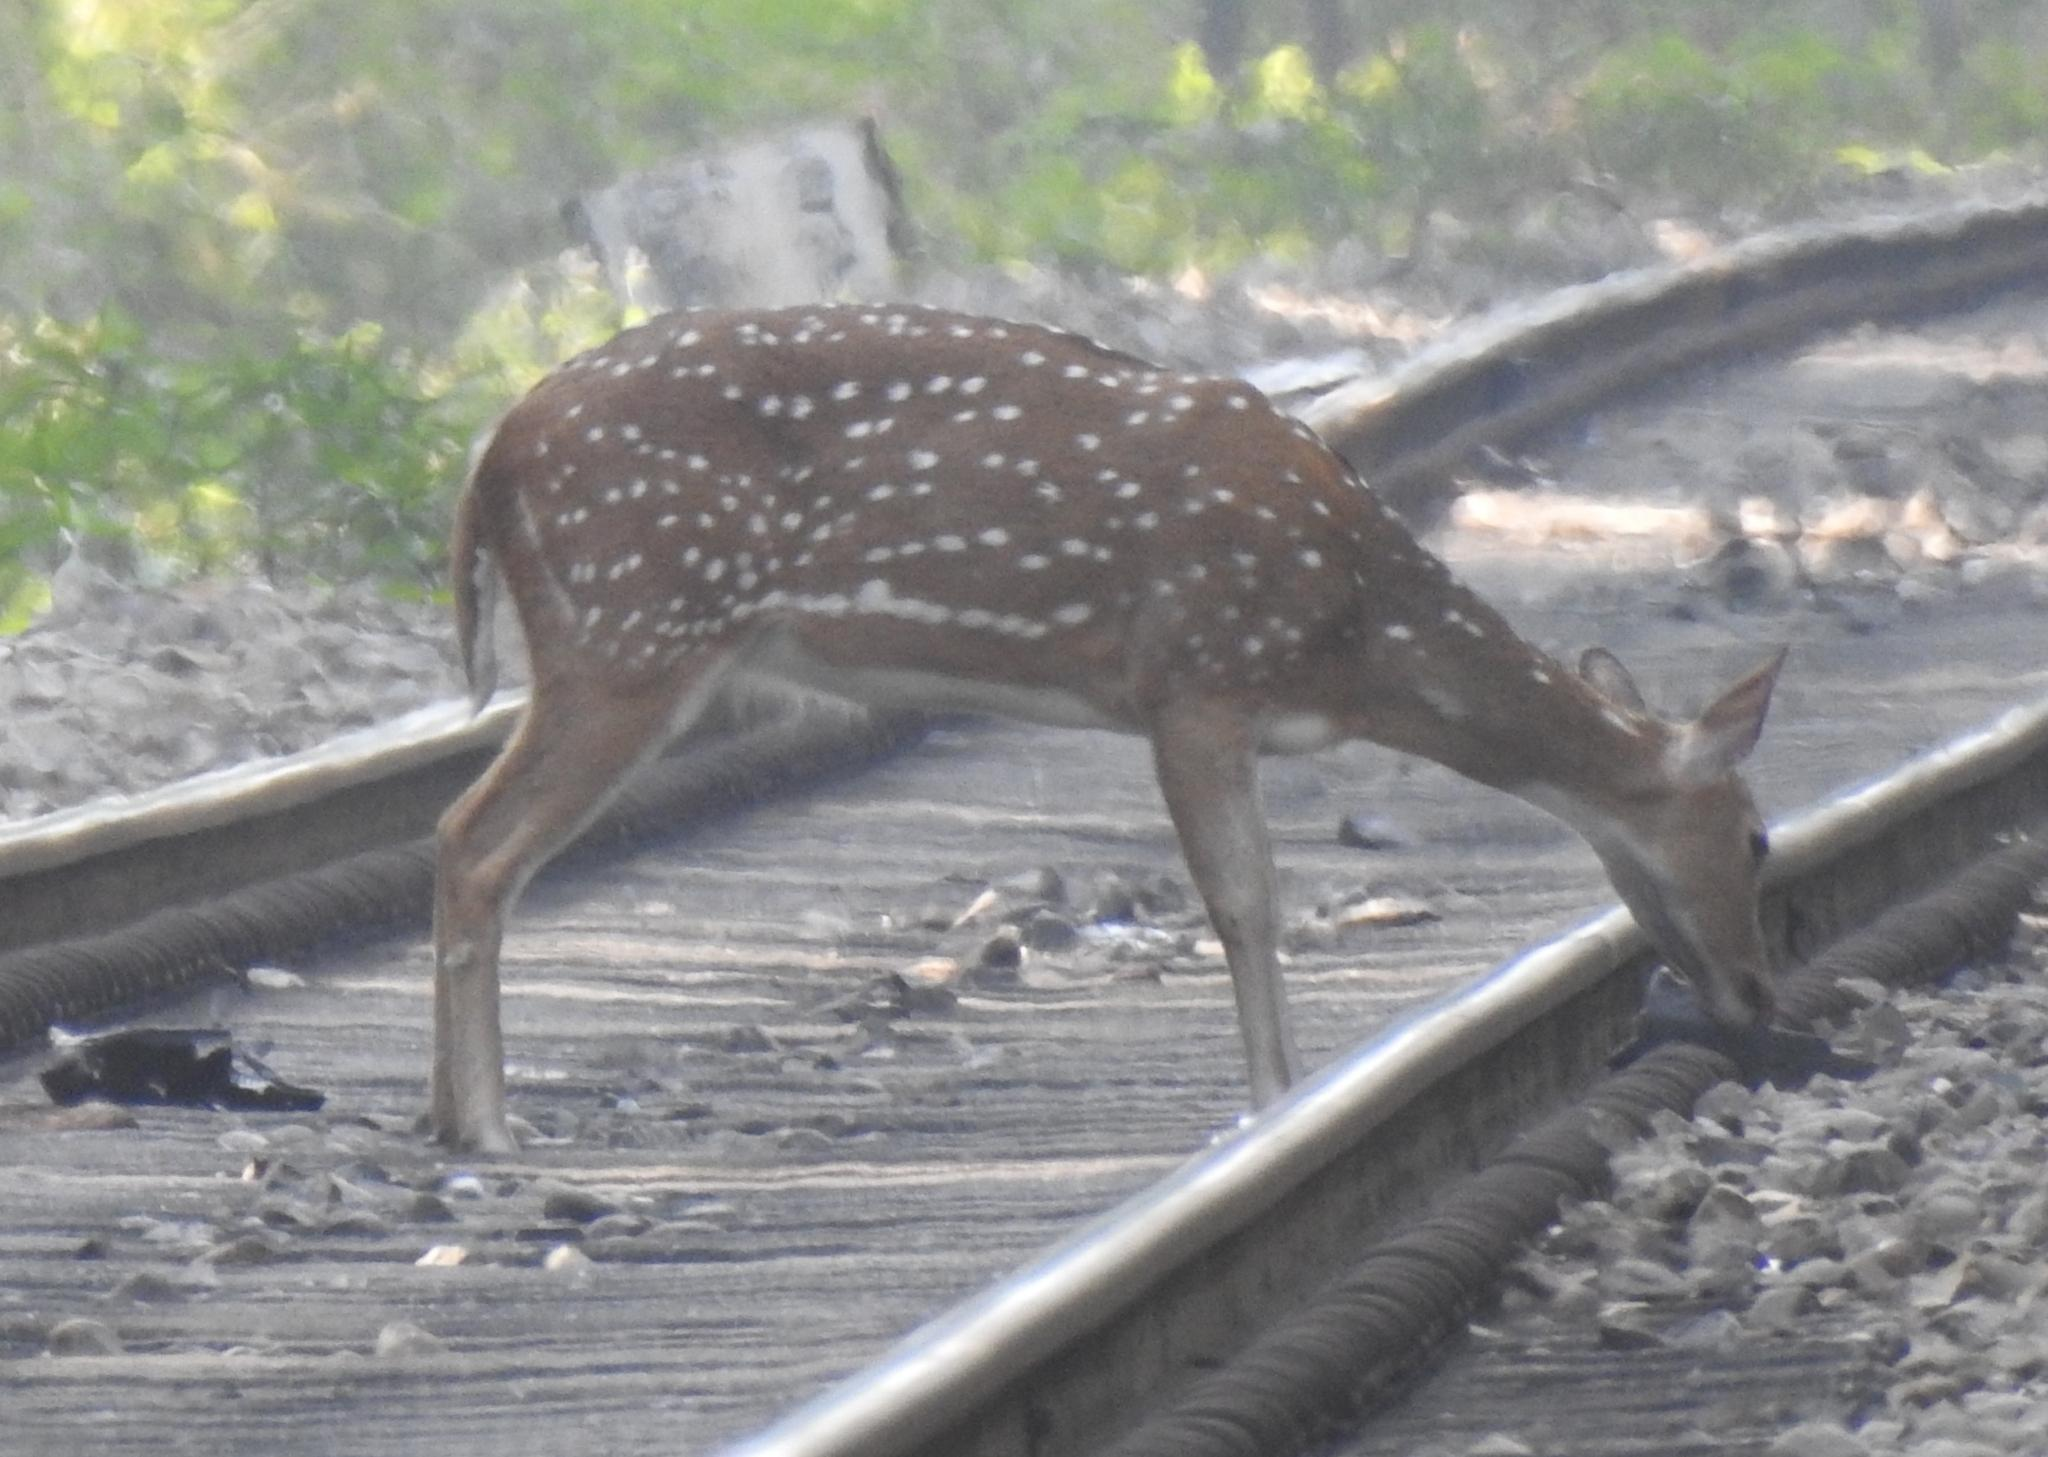Deer: (434, 304, 1782, 1151)
